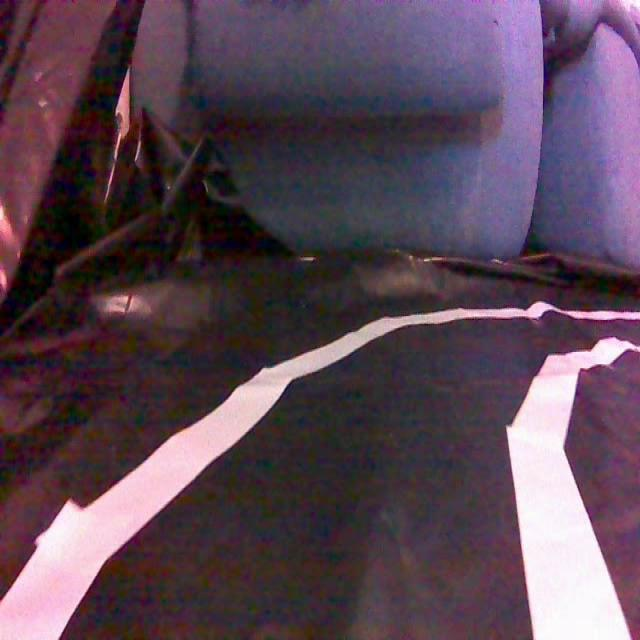LineaCarril: (0, 302, 565, 638), (508, 338, 640, 638)
